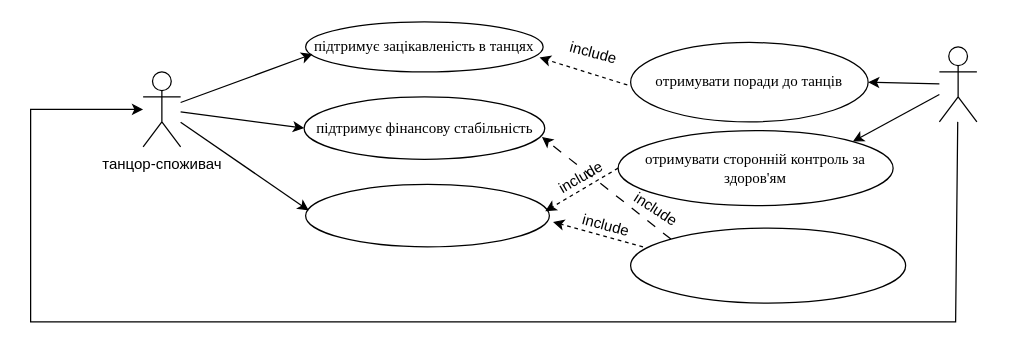
The diagram is 1018 pixels wide and 354 high, and some of its shapes have lost their labels. The centre of each missing label's shape, as x and y in pixels:
контролює стан повітря навколишнього середовища: pixel 767 265
контролює стан свого здоров'я: pixel 426 215
хореограф: pixel 957 84
